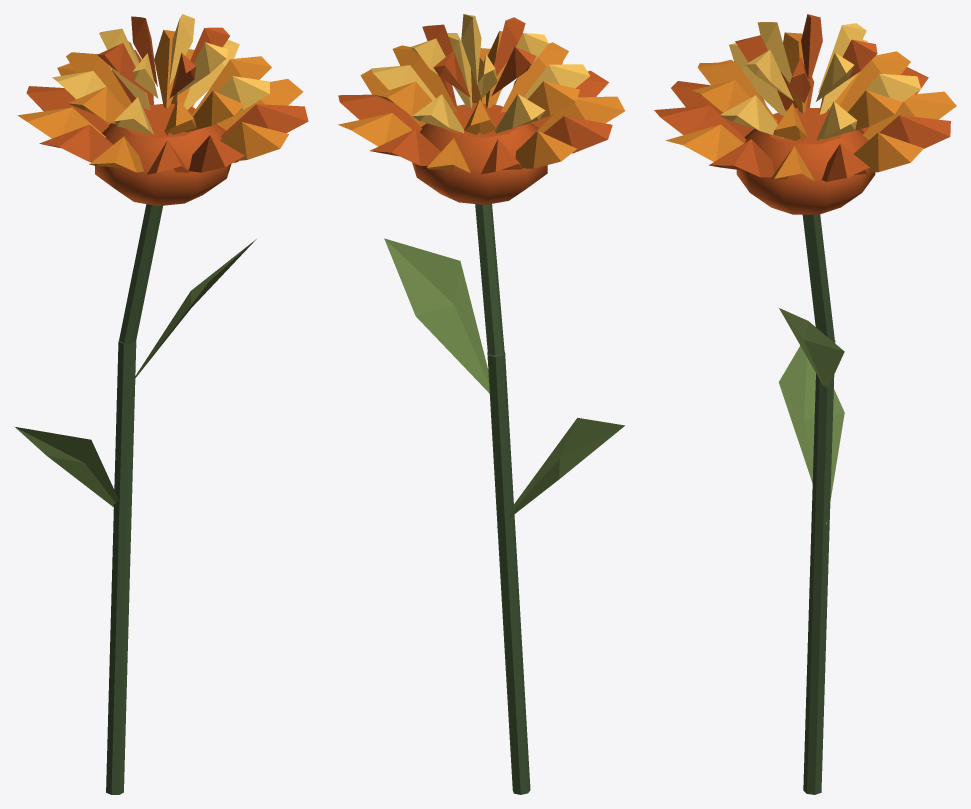
File: cempasuchil.obj
3 views of the same model, side by side, from view 1: azimuth 30°, elevation 25°; view 2: azimuth 150°, elevation 25°; view 3: azimuth 270°, elevation 25° (orthographic). The views are drawn at different scales.
Parts seen in each view (by area): view 1: cempasuchil; view 2: cempasuchil; view 3: cempasuchil.
Boxes of the visible parts, <box> form: cempasuchil: <box>15,14,308,794</box>; cempasuchil: <box>338,14,624,794</box>; cempasuchil: <box>654,14,956,794</box>.
Bounding box in the file's own units: 0.1435 × 0.3762 × 0.133.
